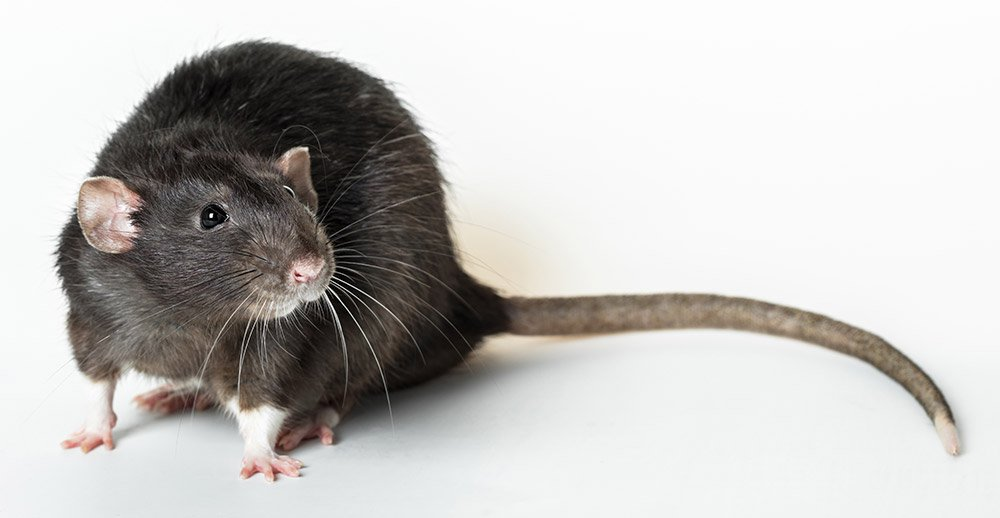rat: (44, 31, 713, 489)
